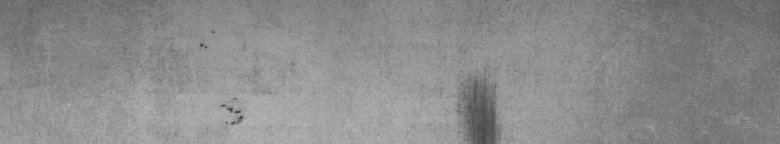ka: (452, 76, 504, 136)
